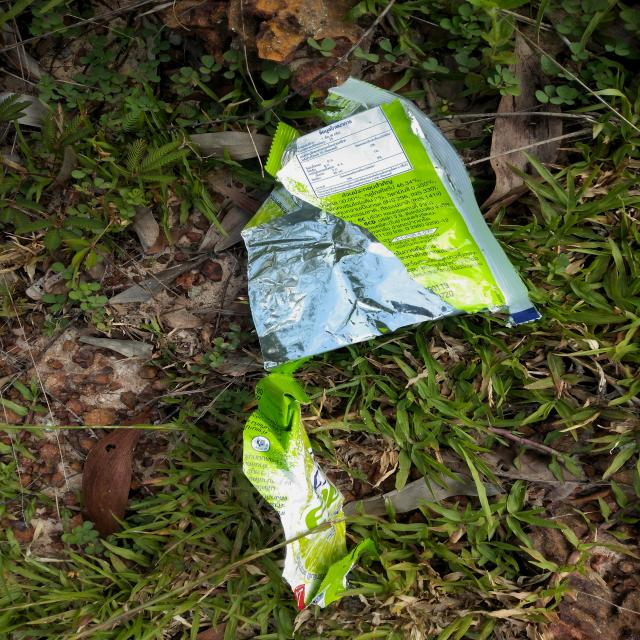Other plastic: (241, 75, 543, 611)
